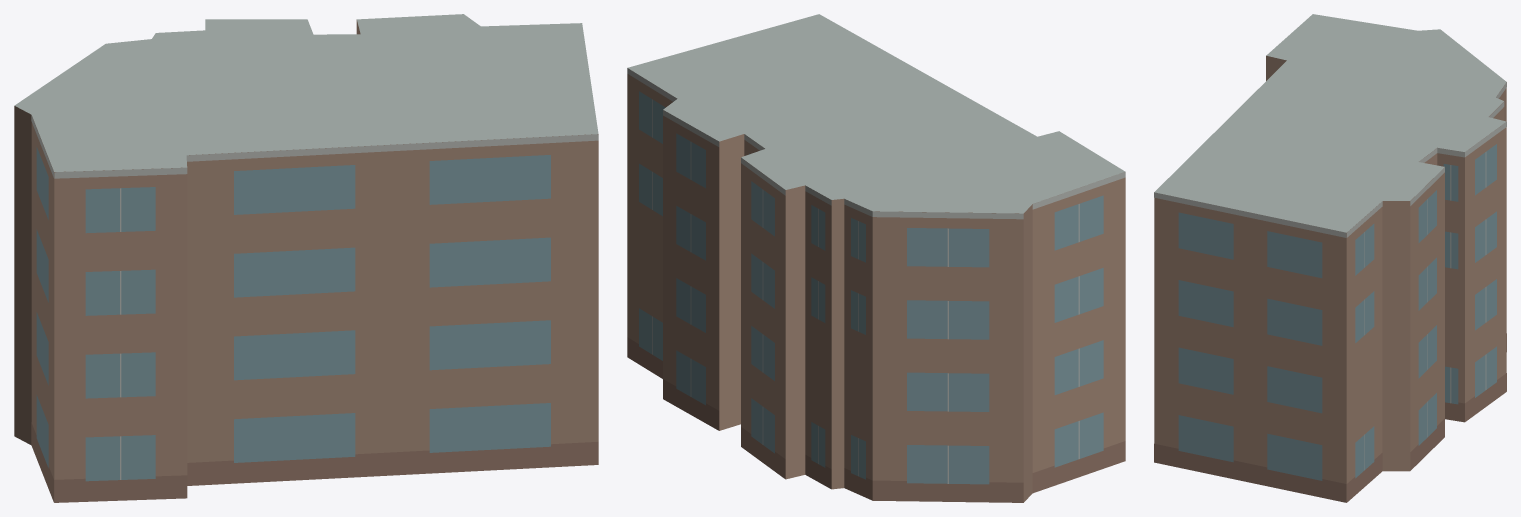
The model's file is survey-upis-32633838.glb.
The picture shows the model from 3 angles, left to right: view 1: azimuth 30°, elevation 25°; view 2: azimuth 150°, elevation 25°; view 3: azimuth 270°, elevation 25°; orthographic projection. The views are drawn at different scales.
Visible parts, largest first — view 1: survey-upis-32633838.tmp; view 2: survey-upis-32633838.tmp; view 3: survey-upis-32633838.tmp.
Part boxes in pixels (left/top/right/bottom): survey-upis-32633838.tmp: left=14, top=14, right=598, bottom=502; survey-upis-32633838.tmp: left=627, top=14, right=1125, bottom=502; survey-upis-32633838.tmp: left=1154, top=14, right=1506, bottom=502.
Size of the model in its own units: 21.36 by 12.3 by 14.56.
